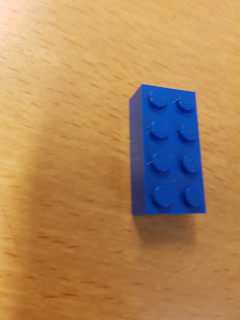2x4 blue: (126, 82, 208, 219)
